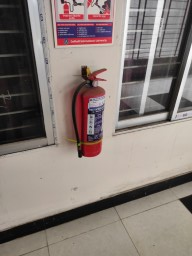fire_extinguisher: (49, 112, 119, 160)
